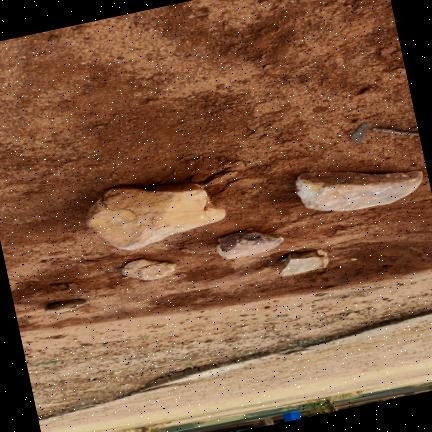Rocks: (86, 183, 224, 249), (295, 170, 421, 210), (216, 229, 282, 258), (279, 249, 327, 275), (121, 258, 174, 279), (43, 298, 86, 312), (201, 170, 236, 186), (379, 45, 395, 55)
